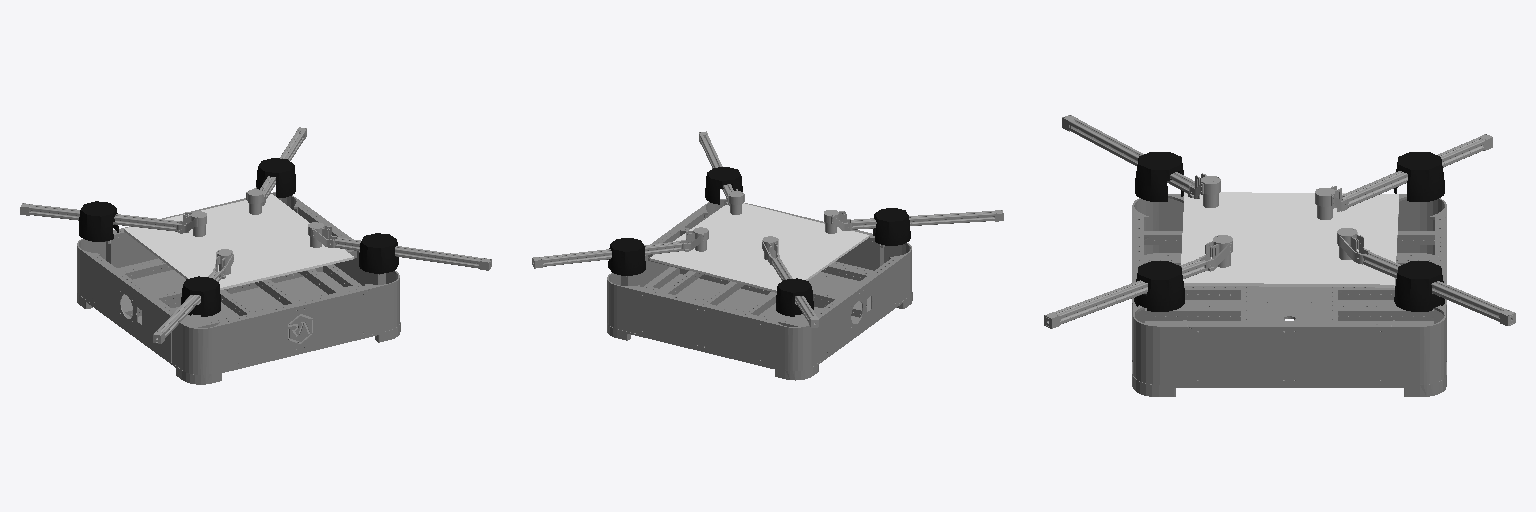
URDF robot description (rai):
<?xml version="1.0" ?>
<!-- Generated using onshape-to-robot -->
<!-- Onshape https://cad.onshape.com/documents/0031347e35259bad3644cd10/w/d8bc605a845f2cbf0a2bf906/e/dc9663babf9f6681d6773ecc -->
<robot name="rai">
  <!-- Link base_link -->
  <link name="base_link">
    <inertial>
      <origin xyz="0 0 0" rpy="0 0 0"/>
      <mass value="0"/>
      <inertia ixx="0" ixy="0" ixz="0" iyy="0" iyz="0" izz="0"/>
    </inertial>
  </link>
  <!-- Link chassis -->
  <link name="chassis">
    <inertial>
      <origin xyz="0 0 0" rpy="0 0 0"/>
      <mass value="0"/>
      <inertia ixx="0" ixy="0" ixz="0" iyy="0" iyz="0" izz="0"/>
    </inertial>
    <!-- Part chassis_parts -->
    <visual>
      <origin xyz="0 0 0" rpy="0 -0 0"/>
      <geometry>
        <mesh filename="package://rai_description/meshes/merged/chassis_visual.stl"/>
      </geometry>
      <material name="chassis_parts_material">
        <color rgba="0.6 0.6 0.6 1"/>
      </material>
    </visual>
  </link>
  <!-- Link canvas -->
  <link name="canvas">
    <inertial>
      <origin xyz="-0 -0 -0.00417976" rpy="0 0 0"/>
      <mass value="4.35842"/>
      <inertia ixx="0.10072" ixy="-0" ixz="0" iyy="0.10072" iyz="-0" izz="0.201392"/>
    </inertial>
    <!-- Part canvas_parts -->
    <visual>
      <origin xyz="-0 -0 -0.00417976" rpy="-3.14159 -0 -2.7447"/>
      <geometry>
        <mesh filename="package://rai_description/meshes/merged/canvas_visual.stl"/>
      </geometry>
      <material name="canvas_parts_material">
        <color rgba="0.901961 0.901961 0.901961 1"/>
      </material>
    </visual>
  </link>
  <!-- Joint from chassis to canvas -->
  <joint name="canvas_revolute" type="continuous">
    <origin xyz="-0 0 0.166624" rpy="-3.14159 0 -2.7447"/>
    <parent link="chassis"/>
    <child link="canvas"/>
    <axis xyz="0 0 1"/>
    <limit effort="1.45" velocity="157"/>
  </joint>
  <!-- Link arm_gantry -->
  <link name="arm_gantry">
    <inertial>
      <origin xyz="-0.00293932 0.00316323 -0.0259266" rpy="0 0 0"/>
      <mass value="0.195145"/>
      <inertia ixx="0.000351186" ixy="-1.6204e-05" ixz="-1.7487e-05" iyy="0.000355911" iyz="1.86021e-05" izz="0.000463081"/>
    </inertial>
    <!-- Part arm_gantry_parts -->
    <visual>
      <origin xyz="-0.00293932 0.00316323 -0.0259266" rpy="0 0 -1.41921"/>
      <geometry>
        <mesh filename="package://rai_description/meshes/merged/arm_gantry_visual.stl"/>
      </geometry>
      <material name="arm_gantry_parts_material">
        <color rgba="0.117647 0.117647 0.117647 1"/>
      </material>
    </visual>
  </link>
  <!-- Link arm -->
  <link name="arm">
    <inertial>
      <origin xyz="-1.47334e-05 0.00795093 -0.30668" rpy="0 0 0"/>
      <mass value="0.516241"/>
      <inertia ixx="0.0168399" ixy="6.40609e-07" ixz="-7.46351e-07" iyy="0.0167911" iyz="-0.000598726" izz="0.000155782"/>
    </inertial>
    <!-- Part arm_parts -->
    <collision>
      <origin xyz="0.000495216 0.0114549 -0.253727" rpy="1.5708 -1.5696 2e-12"/>
      <geometry>
        <box size="0.51 0.03 0.03"/>
      </geometry>
    </collision>
    <collision>
      <origin xyz="0.000450512 -0.0085451 -0.548781" rpy="1.5708 0.821505 0"/>
      <geometry>
        <cylinder length="0.06" radius="0.025"/>
      </geometry>
    </collision>
    <visual>
      <origin xyz="-1.47334e-05 0.00795093 -0.30668" rpy="-1.5708 0.900875 3.14159"/>
      <geometry>
        <mesh filename="package://rai_description/meshes/merged/arm_visual.stl"/>
      </geometry>
      <material name="arm_parts_material">
        <color rgba="0.647059 0.647059 0.647059 1"/>
      </material>
    </visual>
  </link>
  <!-- Frame pen_1 (dummy link + fixed joint) -->
  <link name="pen_1">
    <origin xyz="0 0 0" rpy="0 -0 0"/>
    <inertial>
      <origin xyz="0 0 0" rpy="0 0 0"/>
      <mass value="1e-9"/>
      <inertia ixx="0" ixy="0" ixz="0" iyy="0" iyz="0" izz="0"/>
    </inertial>
  </link>
  <joint name="pen_1_frame" type="fixed">
    <origin xyz="0.0002 0.0313875 -0.549649" rpy="-1.5708 0.821505 -0"/>
    <parent link="arm"/>
    <child link="pen_1"/>
    <axis xyz="0 0 0"/>
  </joint>
  <!-- Joint from arm_gantry to arm -->
  <joint name="arm_slider_1" type="prismatic">
    <origin xyz="-0.260844 0.242656 -0.0135128" rpy="-1.5708 0 0.821505"/>
    <parent link="arm_gantry"/>
    <child link="arm"/>
    <axis xyz="0 0 1"/>
    <limit effort="90" velocity="0.25" lower="-0.277756" upper="0.0742877"/>
  </joint>
  <!-- Joint from chassis to arm_gantry -->
  <joint name="arm_revolute_1" type="revolute">
    <origin xyz="-0.306801 -0.306801 0.233705" rpy="-0 -0 1.41921"/>
    <parent link="chassis"/>
    <child link="arm_gantry"/>
    <axis xyz="0 0 1"/>
    <limit effort="0.61" velocity="157" lower="-3.141592653589793" upper="3.141592653589793"/>
  </joint>
  <!-- Link arm_gantry_2 -->
  <link name="arm_gantry_2">
    <inertial>
      <origin xyz="-0.00293932 0.00316323 -0.0259266" rpy="0 0 0"/>
      <mass value="0.195145"/>
      <inertia ixx="0.000351186" ixy="-1.6204e-05" ixz="-1.7487e-05" iyy="0.000355911" iyz="1.86021e-05" izz="0.000463081"/>
    </inertial>
    <!-- Part arm_gantry_2_parts -->
    <visual>
      <origin xyz="-0.00293932 0.00316323 -0.0259266" rpy="0 0 -3.03808"/>
      <geometry>
        <mesh filename="package://rai_description/meshes/merged/arm_gantry_2_visual.stl"/>
      </geometry>
      <material name="arm_gantry_2_parts_material">
        <color rgba="0.117647 0.117647 0.117647 1"/>
      </material>
    </visual>
  </link>
  <!-- Link arm_2 -->
  <link name="arm_2">
    <inertial>
      <origin xyz="-1.47334e-05 0.00795093 -0.30668" rpy="0 0 0"/>
      <mass value="0.516241"/>
      <inertia ixx="0.0168399" ixy="6.40609e-07" ixz="-7.46351e-07" iyy="0.0167911" iyz="-0.000598726" izz="0.000155782"/>
    </inertial>
    <!-- Part arm_2_parts -->
    <collision>
      <origin xyz="0.000495216 0.0114549 -0.253727" rpy="1.5708 -1.5696 2e-12"/>
      <geometry>
        <box size="0.51 0.03 0.03"/>
      </geometry>
    </collision>
    <collision>
      <origin xyz="0.000450512 -0.0085451 -0.548781" rpy="1.5708 0.821505 0"/>
      <geometry>
        <cylinder length="0.06" radius="0.025"/>
      </geometry>
    </collision>
    <visual>
      <origin xyz="-1.47334e-05 0.00795093 -0.30668" rpy="-1.5708 -0.717995 3.14159"/>
      <geometry>
        <mesh filename="package://rai_description/meshes/merged/arm_2_visual.stl"/>
      </geometry>
      <material name="arm_2_parts_material">
        <color rgba="0.647059 0.647059 0.647059 1"/>
      </material>
    </visual>
  </link>
  <!-- Frame pen_2 (dummy link + fixed joint) -->
  <link name="pen_2">
    <origin xyz="0 0 0" rpy="0 -0 0"/>
    <inertial>
      <origin xyz="0 0 0" rpy="0 0 0"/>
      <mass value="1e-9"/>
      <inertia ixx="0" ixy="0" ixz="0" iyy="0" iyz="0" izz="0"/>
    </inertial>
  </link>
  <joint name="pen_2_frame" type="fixed">
    <origin xyz="0.0002 0.0313875 -0.549649" rpy="-1.5708 0.821505 -0"/>
    <parent link="arm_2"/>
    <child link="pen_2"/>
    <axis xyz="0 0 0"/>
  </joint>
  <!-- Joint from arm_gantry_2 to arm_2 -->
  <joint name="arm_slider_2" type="prismatic">
    <origin xyz="-0.257023 0.239102 -0.0135128" rpy="-1.5708 0 0.821505"/>
    <parent link="arm_gantry_2"/>
    <child link="arm_2"/>
    <axis xyz="0 0 1"/>
    <limit effort="90" velocity="0.25" lower="-0.272538" upper="0.0795063"/>
  </joint>
  <!-- Joint from chassis to arm_gantry_2 -->
  <joint name="arm_revolute_2" type="revolute">
    <origin xyz="0.306801 -0.306801 0.233705" rpy="-0 0 3.03808"/>
    <parent link="chassis"/>
    <child link="arm_gantry_2"/>
    <axis xyz="0 0 1"/>
    <limit effort="0.61" velocity="157" lower="-3.141592653589793" upper="3.141592653589793"/>
  </joint>
  <!-- Link arm_gantry_3 -->
  <link name="arm_gantry_3">
    <inertial>
      <origin xyz="-0.00293932 0.00316323 -0.0259266" rpy="0 0 0"/>
      <mass value="0.195145"/>
      <inertia ixx="0.000351186" ixy="-1.6204e-05" ixz="-1.7487e-05" iyy="0.000355911" iyz="1.86021e-05" izz="0.000463081"/>
    </inertial>
    <!-- Part arm_gantry_3_parts -->
    <visual>
      <origin xyz="-0.00293932 0.00316323 -0.0259266" rpy="0 0 1.48206"/>
      <geometry>
        <mesh filename="package://rai_description/meshes/merged/arm_gantry_3_visual.stl"/>
      </geometry>
      <material name="arm_gantry_3_parts_material">
        <color rgba="0.117647 0.117647 0.117647 1"/>
      </material>
    </visual>
  </link>
  <!-- Link arm_3 -->
  <link name="arm_3">
    <inertial>
      <origin xyz="-1.47334e-05 0.00795093 -0.30668" rpy="0 0 0"/>
      <mass value="0.516241"/>
      <inertia ixx="0.0168399" ixy="6.40609e-07" ixz="-7.46351e-07" iyy="0.0167911" iyz="-0.000598726" izz="0.000155782"/>
    </inertial>
    <!-- Part arm_3_parts -->
    <collision>
      <origin xyz="0.000495216 0.0114549 -0.253727" rpy="1.5708 -1.5696 2e-12"/>
      <geometry>
        <box size="0.51 0.03 0.03"/>
      </geometry>
    </collision>
    <collision>
      <origin xyz="0.000450512 -0.0085451 -0.548781" rpy="1.5708 0.821505 0"/>
      <geometry>
        <cylinder length="0.06" radius="0.025"/>
      </geometry>
    </collision>
    <visual>
      <origin xyz="-1.47334e-05 0.00795093 -0.30668" rpy="1.5708 -0.660552 0"/>
      <geometry>
        <mesh filename="package://rai_description/meshes/merged/arm_3_visual.stl"/>
      </geometry>
      <material name="arm_3_parts_material">
        <color rgba="0.647059 0.647059 0.647059 1"/>
      </material>
    </visual>
  </link>
  <!-- Frame pen_3 (dummy link + fixed joint) -->
  <link name="pen_3">
    <origin xyz="0 0 0" rpy="0 -0 0"/>
    <inertial>
      <origin xyz="0 0 0" rpy="0 0 0"/>
      <mass value="1e-9"/>
      <inertia ixx="0" ixy="0" ixz="0" iyy="0" iyz="0" izz="0"/>
    </inertial>
  </link>
  <joint name="pen_3_frame" type="fixed">
    <origin xyz="0.0002 0.0313875 -0.549649" rpy="-1.5708 0.821505 -0"/>
    <parent link="arm_3"/>
    <child link="pen_3"/>
    <axis xyz="0 0 0"/>
  </joint>
  <!-- Joint from arm_gantry_3 to arm_3 -->
  <joint name="arm_slider_3" type="prismatic">
    <origin xyz="-0.22511 0.209414 -0.0135128" rpy="-1.5708 0 0.821505"/>
    <parent link="arm_gantry_3"/>
    <child link="arm_3"/>
    <axis xyz="0 0 1"/>
    <limit effort="90" velocity="0.25" lower="-0.228952" upper="0.123092"/>
  </joint>
  <!-- Joint from chassis to arm_gantry_3 -->
  <joint name="arm_revolute_3" type="revolute">
    <origin xyz="0.306801 0.306801 0.233705" rpy="0 -0 -1.48206"/>
    <parent link="chassis"/>
    <child link="arm_gantry_3"/>
    <axis xyz="0 0 1"/>
    <limit effort="0.61" velocity="157" lower="-3.141592653589793" upper="3.141592653589793"/>
  </joint>
  <!-- Link arm_gantry_4 -->
  <link name="arm_gantry_4">
    <inertial>
      <origin xyz="-0.00293932 0.00316323 -0.0259266" rpy="0 0 0"/>
      <mass value="0.195145"/>
      <inertia ixx="0.000351186" ixy="-1.6204e-05" ixz="-1.7487e-05" iyy="0.000355911" iyz="1.86021e-05" izz="0.000463081"/>
    </inertial>
    <!-- Part arm_gantry_4_parts -->
    <visual>
      <origin xyz="-0.00293932 0.00316323 -0.0259266" rpy="0 0 0.0856695"/>
      <geometry>
        <mesh filename="package://rai_description/meshes/merged/arm_gantry_4_visual.stl"/>
      </geometry>
      <material name="arm_gantry_4_parts_material">
        <color rgba="0.117647 0.117647 0.117647 1"/>
      </material>
    </visual>
  </link>
  <!-- Link arm_4 -->
  <link name="arm_4">
    <inertial>
      <origin xyz="-1.47334e-05 0.00795093 -0.30668" rpy="0 0 0"/>
      <mass value="0.516241"/>
      <inertia ixx="0.0168399" ixy="6.40609e-07" ixz="-7.46351e-07" iyy="0.0167911" iyz="-0.000598726" izz="0.000155782"/>
    </inertial>
    <!-- Part arm_4_parts -->
    <collision>
      <origin xyz="0.000495216 0.0114549 -0.253727" rpy="1.5708 -1.5696 2e-12"/>
      <geometry>
        <box size="0.51 0.03 0.03"/>
      </geometry>
    </collision>
    <collision>
      <origin xyz="0.000450512 -0.0085451 -0.548781" rpy="1.5708 0.821505 0"/>
      <geometry>
        <cylinder length="0.06" radius="0.025"/>
      </geometry>
    </collision>
    <visual>
      <origin xyz="-1.47334e-05 0.00795093 -0.30668" rpy="1.5708 0.735836 0"/>
      <geometry>
        <mesh filename="package://rai_description/meshes/merged/arm_4_visual.stl"/>
      </geometry>
      <material name="arm_4_parts_material">
        <color rgba="0.647059 0.647059 0.647059 1"/>
      </material>
    </visual>
  </link>
  <!-- Frame pen_4 (dummy link + fixed joint) -->
  <link name="pen_4">
    <origin xyz="0 0 0" rpy="0 -0 0"/>
    <inertial>
      <origin xyz="0 0 0" rpy="0 0 0"/>
      <mass value="1e-9"/>
      <inertia ixx="0" ixy="0" ixz="0" iyy="0" iyz="0" izz="0"/>
    </inertial>
  </link>
  <joint name="pen_4_frame" type="fixed">
    <origin xyz="0.0002 0.0313875 -0.549649" rpy="-1.5708 0.821505 -0"/>
    <parent link="arm_4"/>
    <child link="pen_4"/>
    <axis xyz="0 0 0"/>
  </joint>
  <!-- Joint from arm_gantry_4 to arm_4 -->
  <joint name="arm_slider_4" type="prismatic">
    <origin xyz="-0.173713 0.1616 -0.0135128" rpy="-1.5708 0 0.821505"/>
    <parent link="arm_gantry_4"/>
    <child link="arm_4"/>
    <axis xyz="0 0 1"/>
    <limit effort="90" velocity="0.25" lower="-0.158753" upper="0.193291"/>
  </joint>
  <!-- Joint from chassis to arm_gantry_4 -->
  <joint name="arm_revolute_4" type="revolute">
    <origin xyz="-0.306801 0.306801 0.233705" rpy="-0 -0 -0.0856695"/>
    <parent link="chassis"/>
    <child link="arm_gantry_4"/>
    <axis xyz="0 0 1"/>
    <limit effort="0.61" velocity="157" lower="-3.141592653589793" upper="3.141592653589793"/>
  </joint>
  <!-- Joint from base_link to chassis -->
  <joint name="base_link_to_chassis" type="fixed">
    <origin xyz="0 0 0" rpy="0 -0 0"/>
    <parent link="base_link"/>
    <child link="chassis"/>
    <axis xyz="0 0 1"/>
    <limit effort="10" velocity="10"/>
  </joint>
</robot>

--- What the picture shows (computed from the rendered views, not written in the file) ---
3 views of the same robot in one strip: view 1: azimuth 30°, elevation 25°; view 2: azimuth 150°, elevation 25°; view 3: azimuth 270°, elevation 25° (orthographic).
Model rai with 15 links and 14 joints (4 revolute, 1 continuous, 4 prismatic, 5 fixed), rooted at base_link, posed all joints at 0.
Visible links, largest first — view 1: chassis, canvas, arm_4, arm_2, arm_gantry_2, arm_gantry_4, arm, arm_gantry, arm_gantry_3, arm_3; view 2: chassis, canvas, arm, arm_3, arm_gantry, arm_gantry_3, arm_gantry_4, arm_4, arm_gantry_2, arm_2; view 3: chassis, canvas, arm_2, arm_3, arm_4, arm, arm_gantry_2, arm_gantry_3, arm_gantry_4, arm_gantry.
Boxes of the visible links, box(x1,y1,x2,y2) form: chassis: box(77, 192, 400, 384); canvas: box(124, 194, 353, 289); arm_4: box(20, 203, 206, 236); arm_2: box(308, 222, 491, 270); arm_gantry_2: box(359, 233, 398, 273); arm_gantry_4: box(79, 201, 118, 241); arm: box(153, 249, 233, 343); arm_gantry: box(181, 276, 220, 316); arm_gantry_3: box(256, 158, 295, 197); arm_3: box(246, 127, 306, 214); chassis: box(607, 199, 912, 380); canvas: box(649, 203, 869, 292); arm: box(824, 210, 1003, 233); arm_3: box(532, 227, 708, 268); arm_gantry: box(873, 208, 910, 245); arm_gantry_3: box(608, 238, 645, 275); arm_gantry_4: box(776, 278, 813, 316); arm_4: box(762, 236, 818, 327); arm_gantry_2: box(705, 167, 742, 204); arm_2: box(699, 131, 744, 214); chassis: box(1132, 194, 1446, 396); canvas: box(1181, 192, 1398, 287); arm_2: box(1044, 235, 1232, 328); arm_3: box(1337, 228, 1515, 325); arm_4: box(1315, 134, 1492, 219); arm: box(1062, 115, 1220, 207); arm_gantry_2: box(1134, 261, 1184, 311); arm_gantry_3: box(1394, 261, 1444, 311); arm_gantry_4: box(1394, 152, 1444, 201); arm_gantry: box(1135, 152, 1183, 201).
Size in the robot's own frame: 1.14 by 1.11 by 0.3217 metres.
10 mesh visuals loaded from 10 distinct referenced files (10 binary STL).
